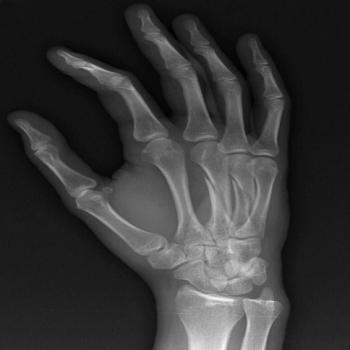Fracture: (203, 174, 229, 212), (232, 177, 255, 209)
